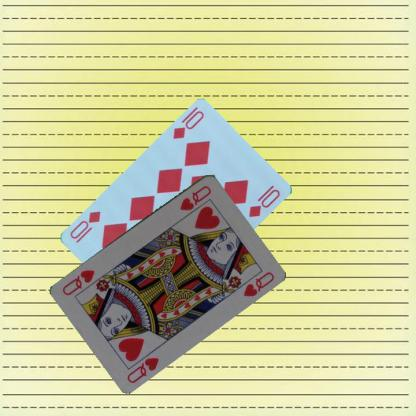10d: (170, 109, 206, 141)
Qh: (176, 182, 212, 213), (124, 354, 160, 384)
